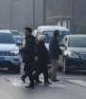person: (20, 26, 38, 91), (49, 29, 66, 84), (35, 33, 52, 87)
